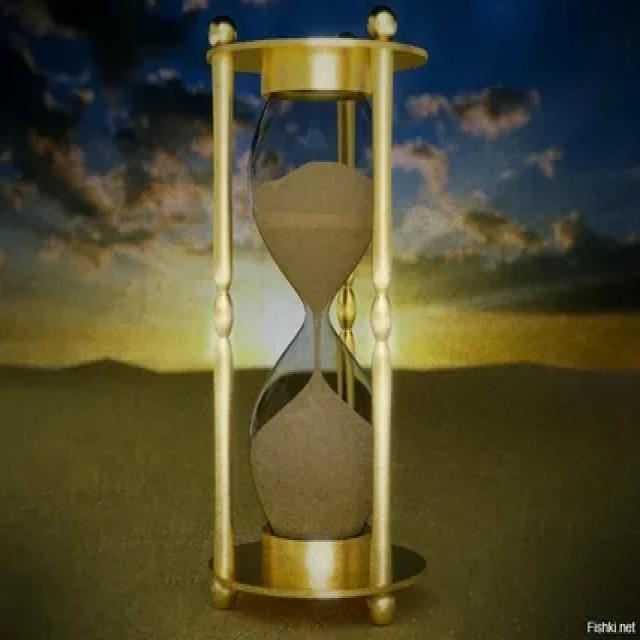clock: (197, 22, 421, 611)
